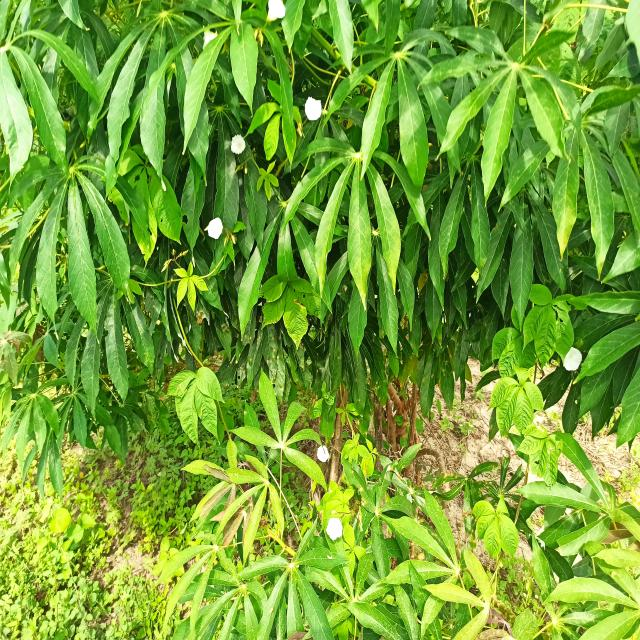Maleza: (4, 509, 155, 638), (71, 461, 182, 530), (496, 321, 547, 437), (513, 284, 572, 366), (258, 270, 319, 345), (172, 362, 227, 439), (467, 489, 523, 559), (253, 82, 299, 162), (517, 424, 568, 481), (173, 256, 204, 302), (343, 431, 374, 474), (253, 160, 281, 203)
Mosca: (265, 600, 275, 619), (320, 550, 337, 560)
